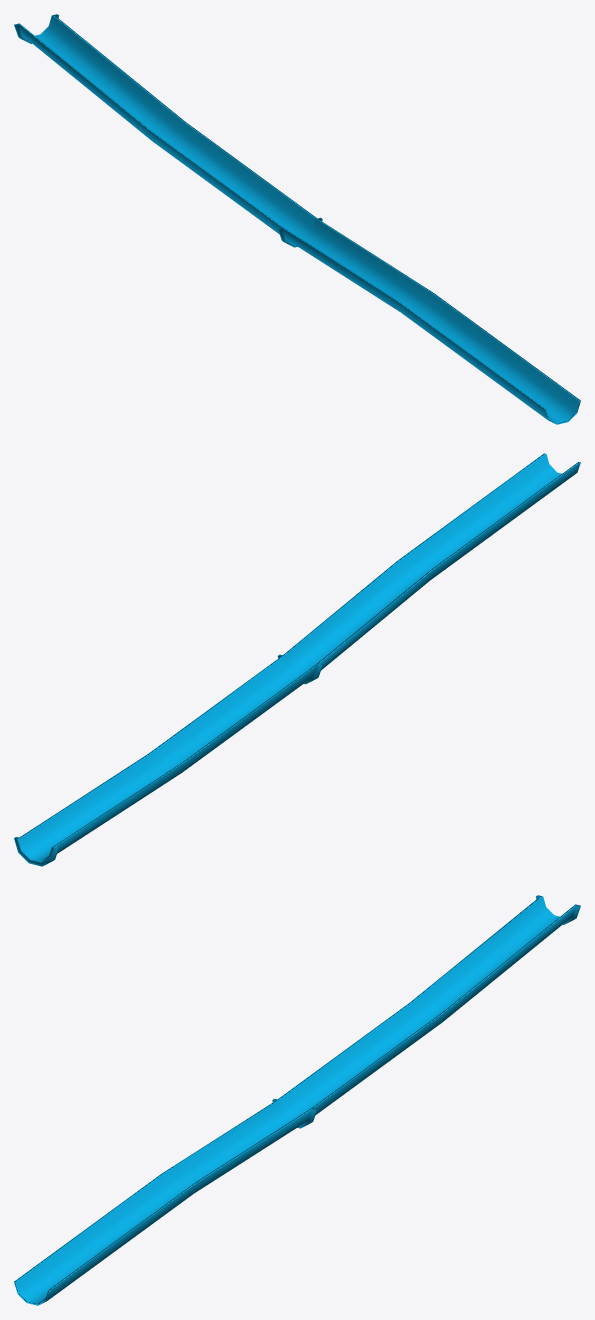
The model's file is Gutter_01.fbx.
3 renders of one model, top to bottom at view 1: azimuth 30°, elevation 25°; view 2: azimuth 150°, elevation 25°; view 3: azimuth 330°, elevation 25°, orthographic.
Parts seen in each view (by area): view 1: Gutter_01; view 2: Gutter_01; view 3: Gutter_01.
Boxes of the visible parts, x1=… form: Gutter_01: x1=14, y1=14, x2=580, y2=424; Gutter_01: x1=14, y1=453, x2=580, y2=866; Gutter_01: x1=14, y1=895, x2=580, y2=1305.
Bounding box in the file's own units: 14.26 × 10.14 × 301.
